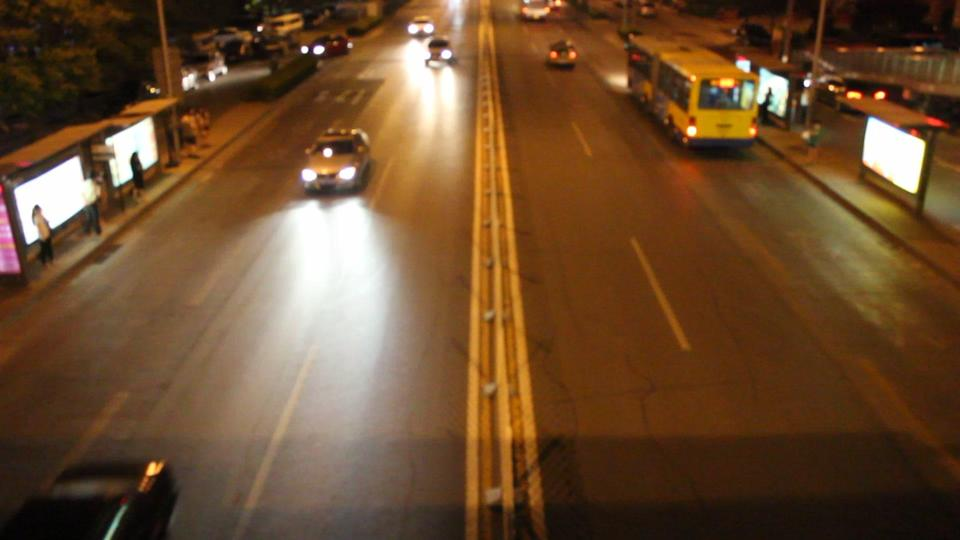bus: (625, 36, 764, 153)
car: (0, 452, 183, 540), (301, 126, 374, 195), (300, 33, 353, 58), (546, 38, 579, 69), (425, 38, 457, 68), (520, 0, 555, 22), (407, 16, 435, 39), (637, 1, 658, 19)
person: (27, 199, 56, 266), (72, 172, 102, 235), (128, 143, 147, 211)
